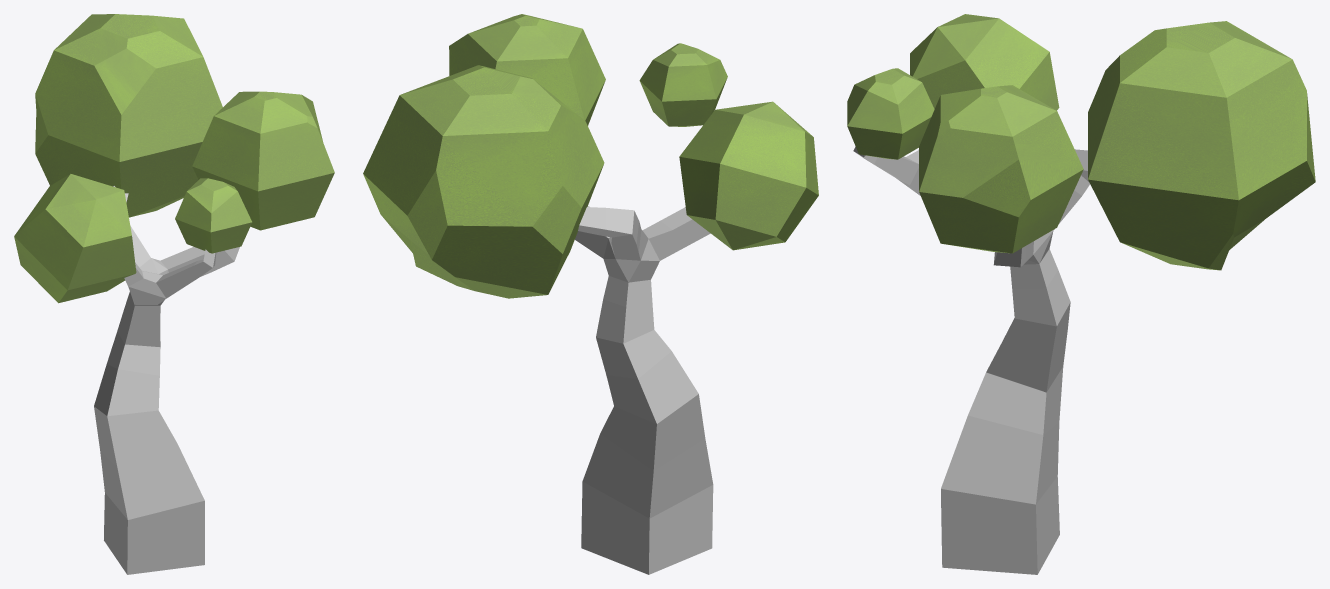
File: NickPhillips_BasicTree.fbx
3 renders of one model, left to right at view 1: azimuth 30°, elevation 25°; view 2: azimuth 150°, elevation 25°; view 3: azimuth 270°, elevation 25°, orthographic. The views are drawn at different scales.
Visible parts, largest first — view 1: Sphere.001, Cube, Sphere, Sphere.002, Sphere.003; view 2: Sphere.001, Cube, Sphere.002, Sphere, Sphere.003; view 3: Sphere.001, Cube, Sphere, Sphere.002, Sphere.003.
Part boxes in pixels (x1,y1,x2,y2): Sphere.001: (35,14,222,217); Cube: (94,186,239,574); Sphere: (192,91,334,230); Sphere.002: (14,174,136,303); Sphere.003: (175,178,252,253); Sphere.001: (363,65,604,298); Cube: (575,110,714,574); Sphere.002: (679,101,818,250); Sphere: (449,14,605,125); Sphere.003: (639,43,727,126); Sphere.001: (1088,21,1315,270); Cube: (853,146,1089,574); Sphere: (919,85,1083,253); Sphere.002: (910,14,1059,110); Sphere.003: (847,68,934,159).
Bounding box in the file's own units: 411 × 584 × 452.
